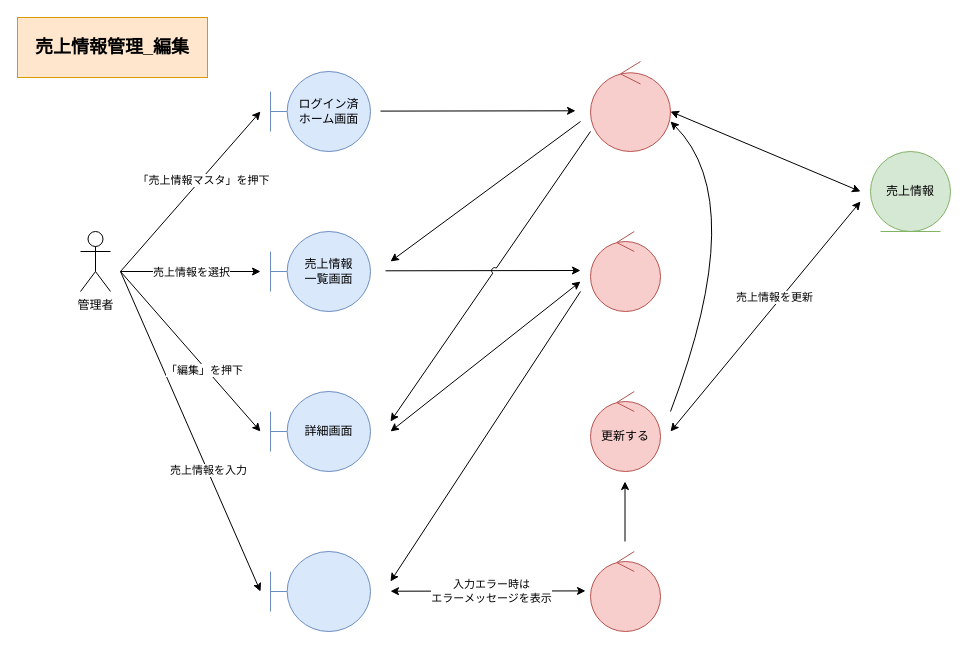
This 968x649 diagram has some shape labels left out. The centre of each missing label's shape, as x and y in pixels:
入力データを検証する: the point at 625,591
売上情報 を取得する: the point at 630,106
編集画面: the point at 320,591
表示する: the point at 625,271
